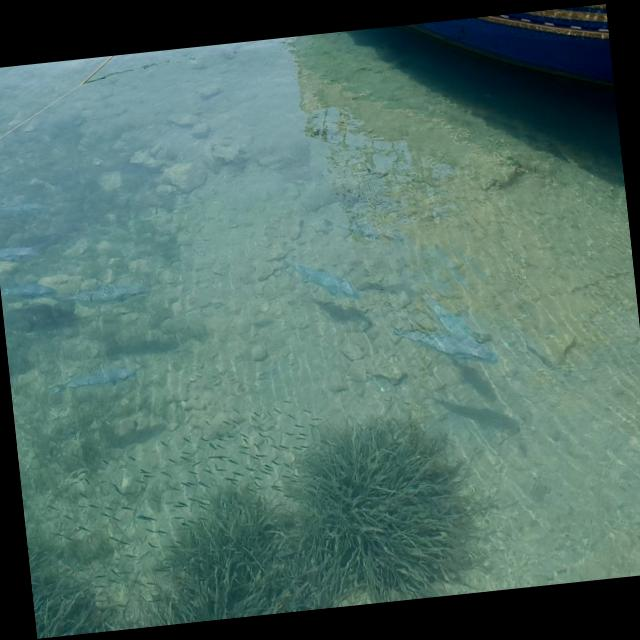Balon Baligi: (391, 314, 496, 372), (282, 250, 352, 301), (419, 284, 475, 346), (56, 280, 151, 306), (47, 366, 135, 394), (320, 211, 380, 244), (0, 279, 56, 302), (0, 195, 45, 217), (0, 243, 37, 263)
